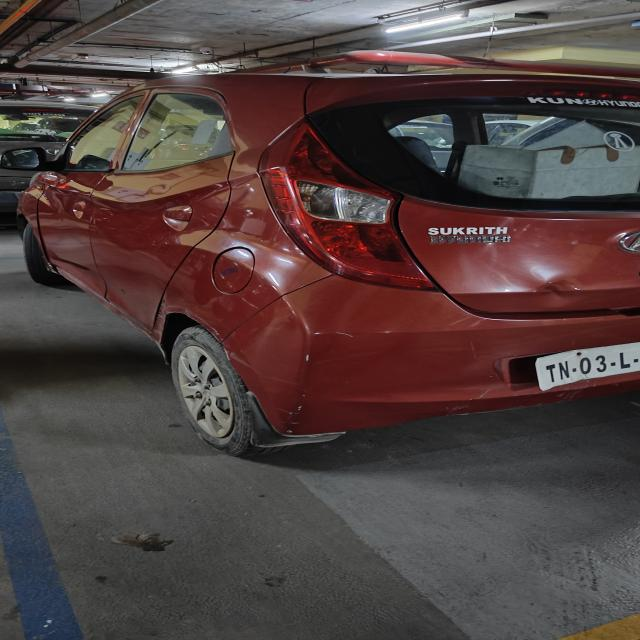scratch: (282, 348, 318, 433), (432, 388, 504, 410), (330, 328, 360, 339)
